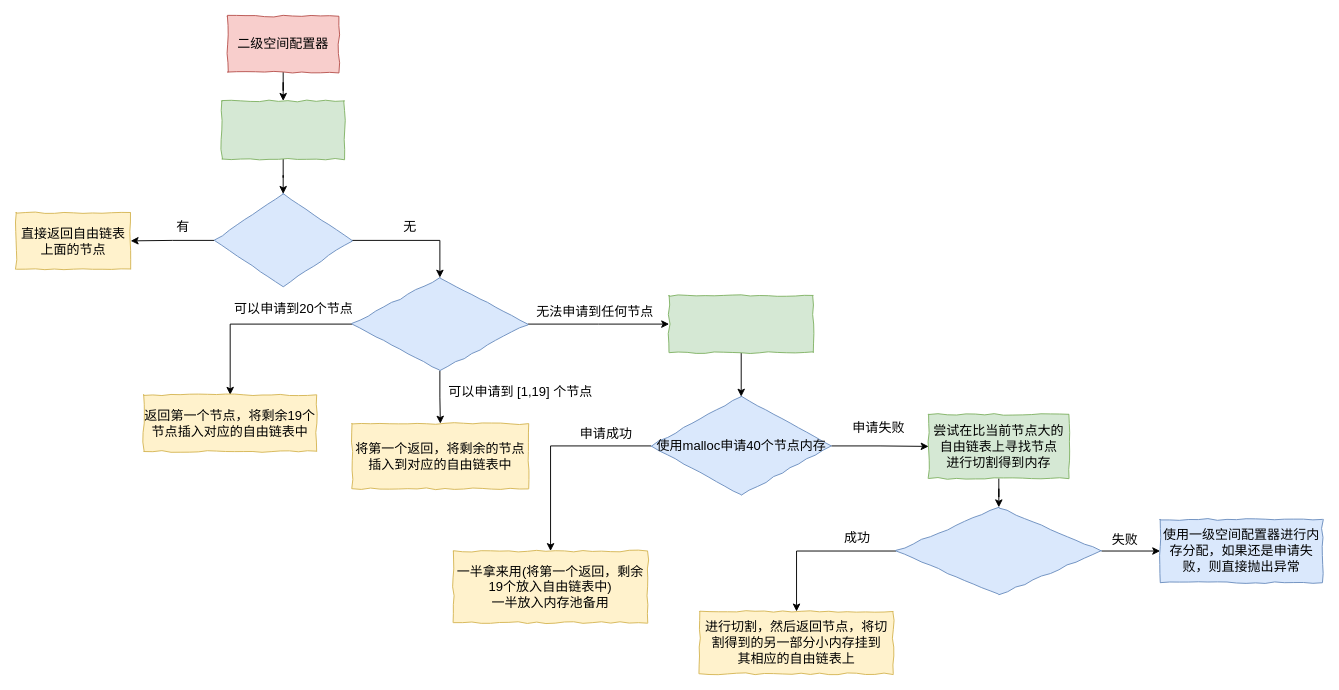
The diagram is 1339 pixels wide and 690 high, and some of its shapes have lost their labels. The box of each missing label's shape, as (x1, y1, x2, y2) in pixels:
先将剩余内存挂到一个合适的自由链表上: (668, 295, 813, 353)
判断内存池中的可用 内存: (351, 277, 528, 371)
判断自由链表中 是否有节点？: (213, 193, 352, 287)
哈希映射找到对应的自由链表: (221, 100, 345, 159)
能够找到: (895, 506, 1102, 595)
